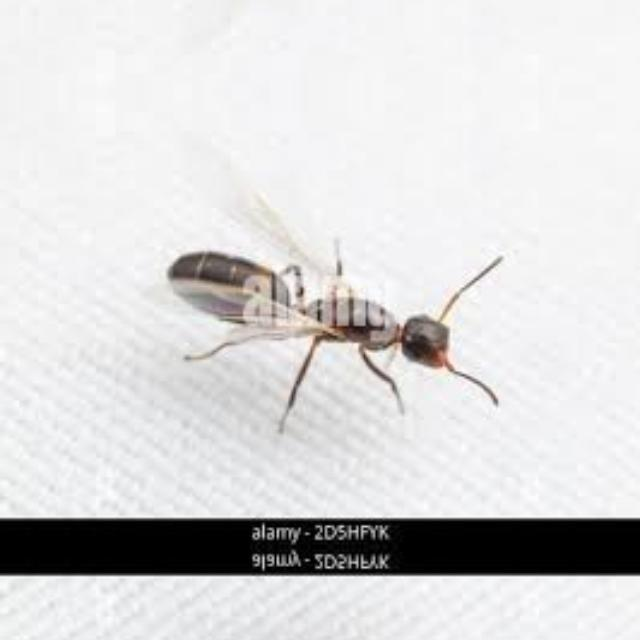Colobopsis: (133, 218, 522, 410)
